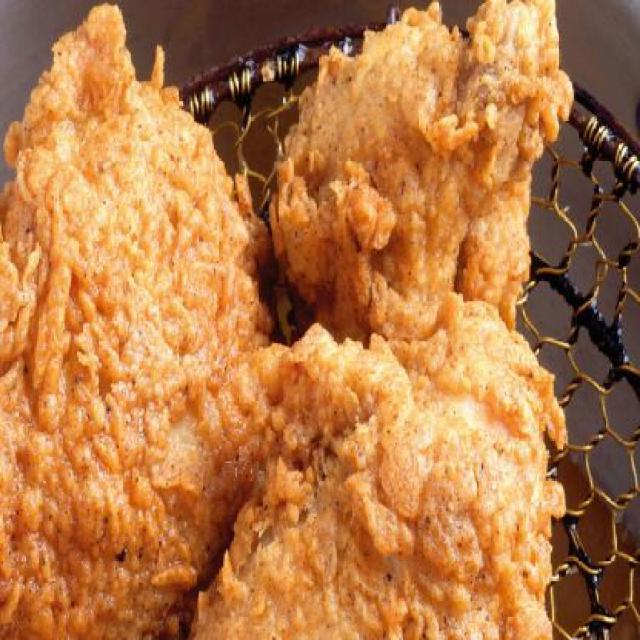Chicken -Fried Chicken-: (0, 0, 574, 640)
